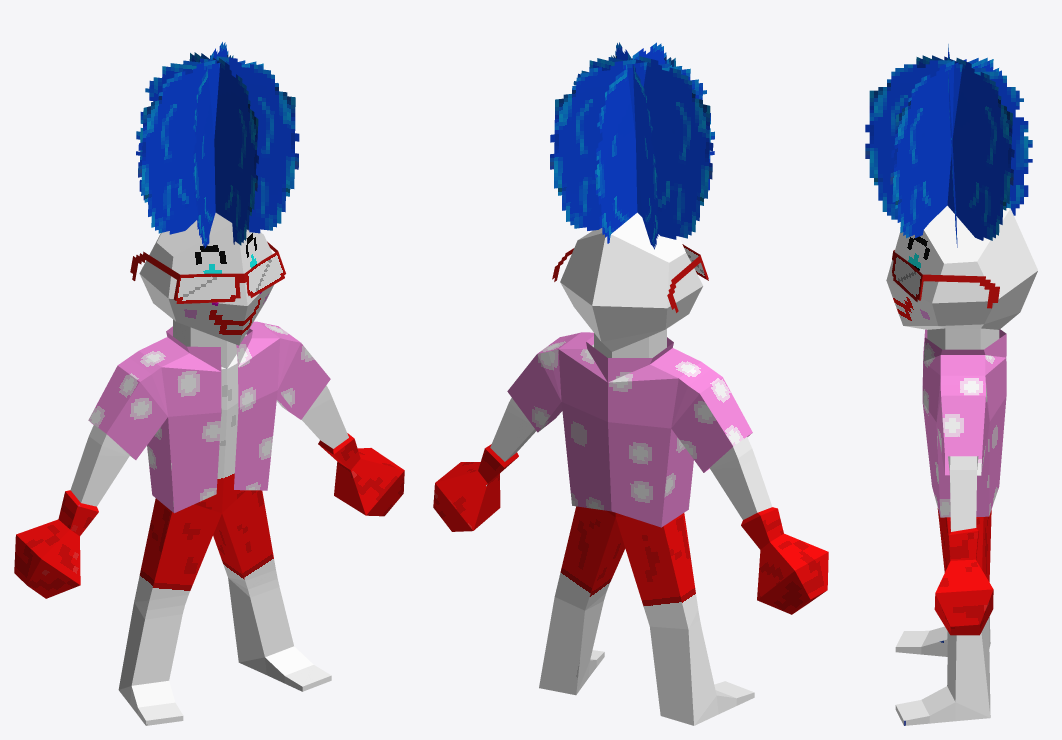
File: PalhaçoAzul.glb
3 renders of one model, left to right at view 1: azimuth 30°, elevation 25°; view 2: azimuth 150°, elevation 25°; view 3: azimuth 270°, elevation 25°, orthographic. The views are drawn at different scales.
Visible parts, largest first — view 1: Personagem2; view 2: Personagem2; view 3: Personagem2.
Part boxes in pixels (box(x1,y1,x2,y2)): Personagem2: box(14, 42, 404, 725); Personagem2: box(433, 42, 828, 725); Personagem2: box(865, 44, 1037, 725).
Size of the model in its own units: 1.26 by 2.02 by 0.5543.
Materials: 3 (3 with a texture image).
